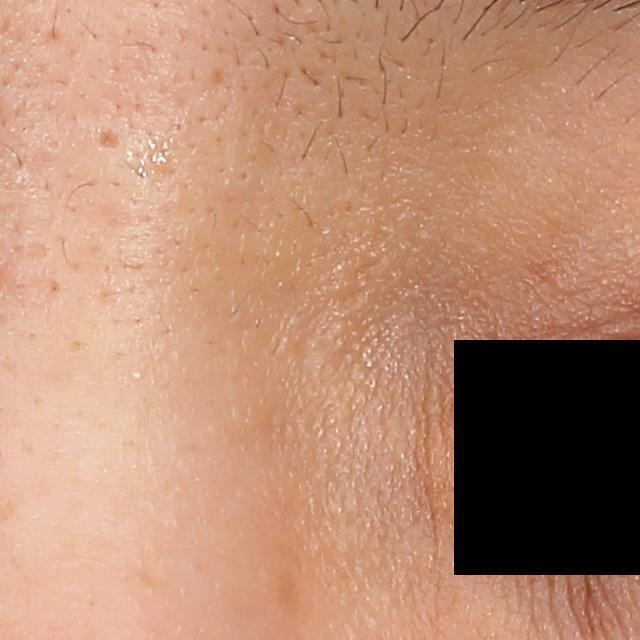atrophic_scar: (97, 128, 126, 150)
